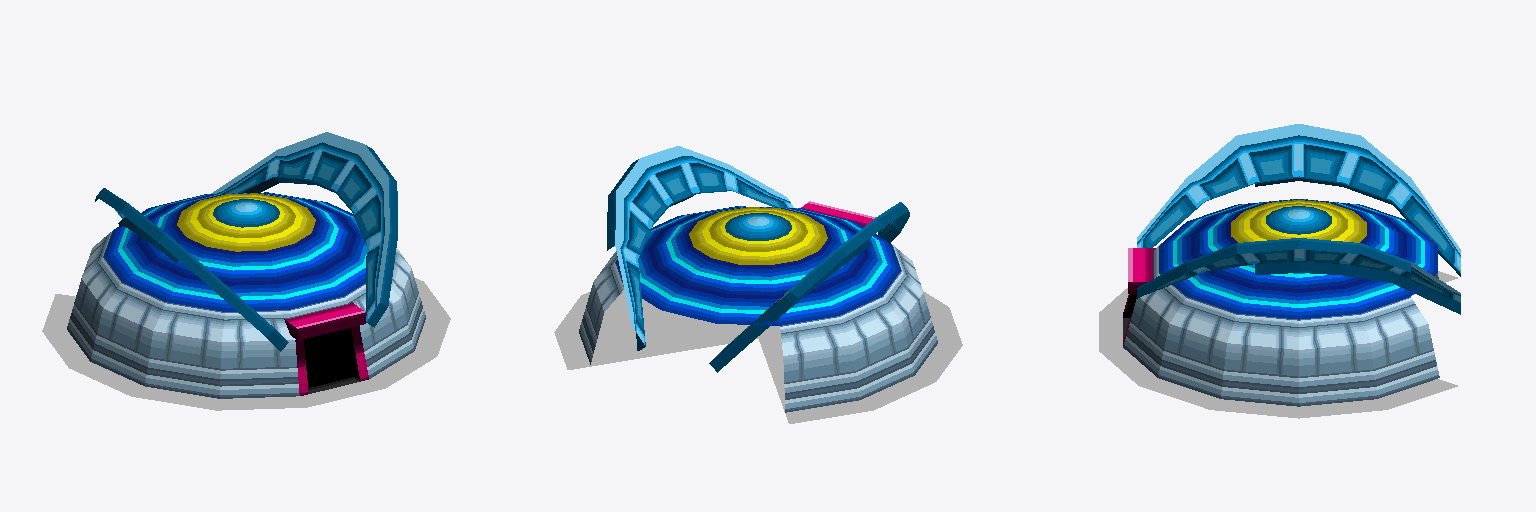
The picture shows the model from 3 angles: view 1: azimuth 30°, elevation 25°; view 2: azimuth 150°, elevation 25°; view 3: azimuth 270°, elevation 25°; orthographic projection.
Parts seen in each view (by area): view 1: polygon2, polygon1, polygon4, polygon0, polygon3; view 2: polygon1, polygon4, polygon2, polygon0, polygon3; view 3: polygon1, polygon2, polygon4, polygon0, polygon3.
Part boxes in pixels (x1,y1,x2,y2): polygon2: (67,231,425,398); polygon1: (95,132,397,351); polygon4: (104,192,366,311); polygon0: (42,277,450,410); polygon3: (284,302,368,395); polygon1: (607,146,909,372); polygon4: (616,206,900,325); polygon2: (579,245,937,412); polygon0: (554,290,962,423); polygon3: (801,201,875,226); polygon1: (1137,124,1460,314); polygon2: (1123,230,1439,406); polygon4: (1159,199,1437,319); polygon0: (1099,271,1457,418); polygon3: (1123,248,1155,345).
Bounding box in the file's own units: 15.62 × 6.39 × 13.79.
5 materials, 4 textured.